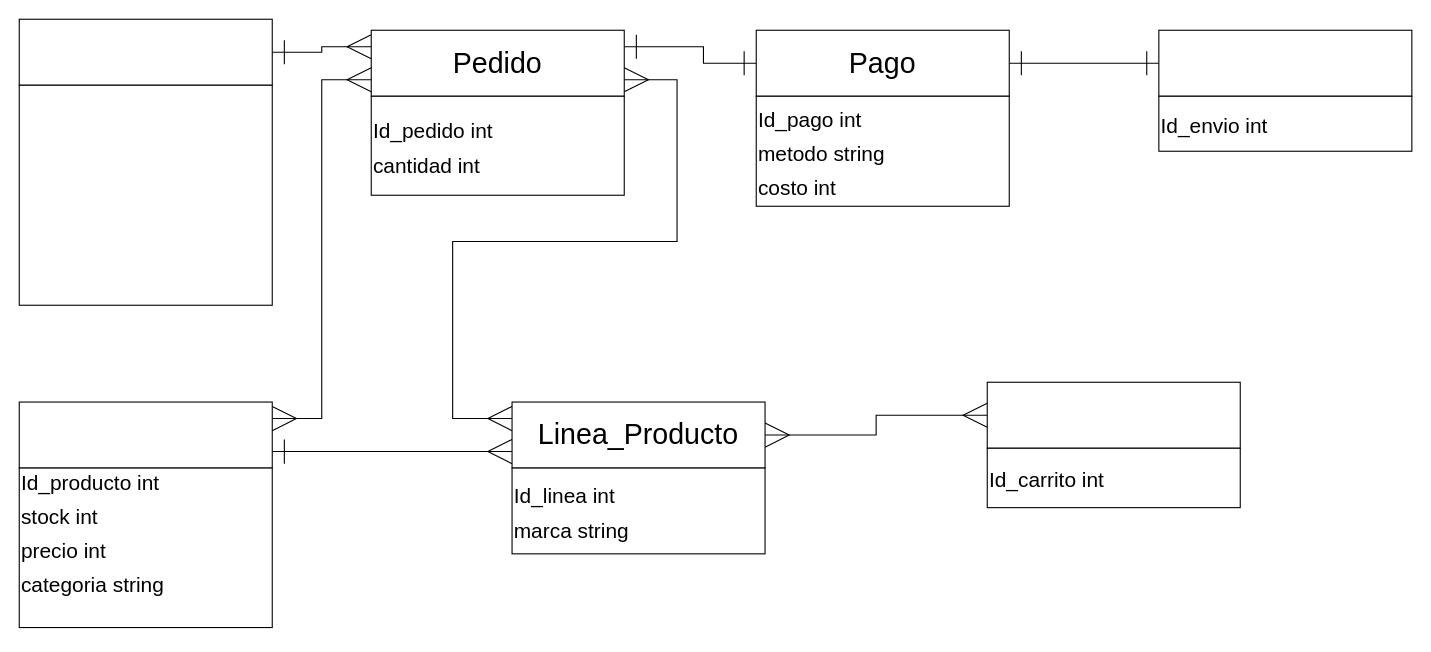
Some shapes in this 1431 by 652 pixel diagram are drawn without their labels. The shapes that lost their labels are listed below. From the top down, each one's centre as x and y in pixels, then its label:
At (145,51): "Cliente".
At (1285,62): "Envio".
At (145,194): "Id_cliente int Nombre string DNI int Direccion string Telefono int Mail string".
At (145,434): "Producto".
At (1113,414): "Carrito_Compra".
